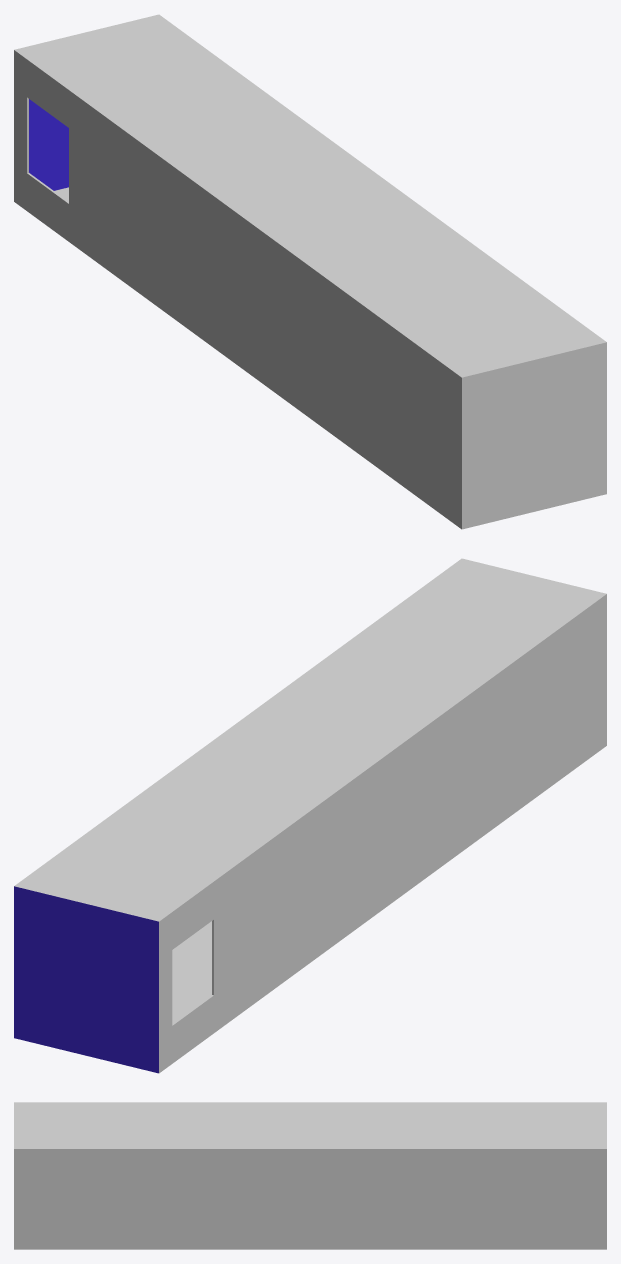
Rendered from reference_room.gltf.
3 renders of one model, top to bottom at view 1: azimuth 30°, elevation 25°; view 2: azimuth 150°, elevation 25°; view 3: azimuth 270°, elevation 25°, orthographic. The views are drawn at different scales.
Parts seen in each view (by area): view 1: Room; view 2: Room; view 3: Room.
Part boxes in pixels (bbox=[...]): Room: bbox=[14, 14, 606, 529]; Room: bbox=[14, 558, 606, 1073]; Room: bbox=[14, 1102, 606, 1249].
Size of the model in its own units: 4 by 4 by 21.38.
